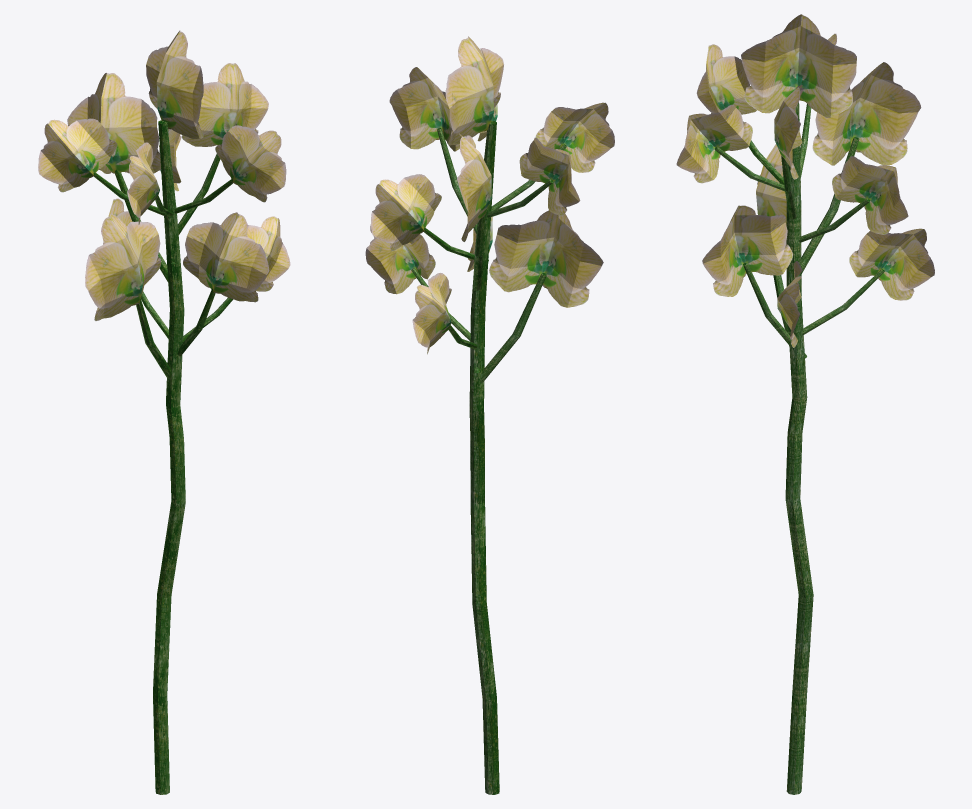
Rendered from flower 7.fbx.
3 renders of one model, left to right at view 1: azimuth 30°, elevation 25°; view 2: azimuth 150°, elevation 25°; view 3: azimuth 270°, elevation 25°, orthographic. The views are drawn at different scales.
Visible parts, largest first — view 1: Flower7; view 2: Flower7; view 3: Flower7.
Boxes of the visible parts, x1,y1,x2,y2 form: Flower7: (38,30,290,794); Flower7: (365,36,614,794); Flower7: (676,14,934,794).
Bounding box in the file's own units: 16.95 × 46.31 × 15.44.
Materials: 2 (2 with a texture image).
